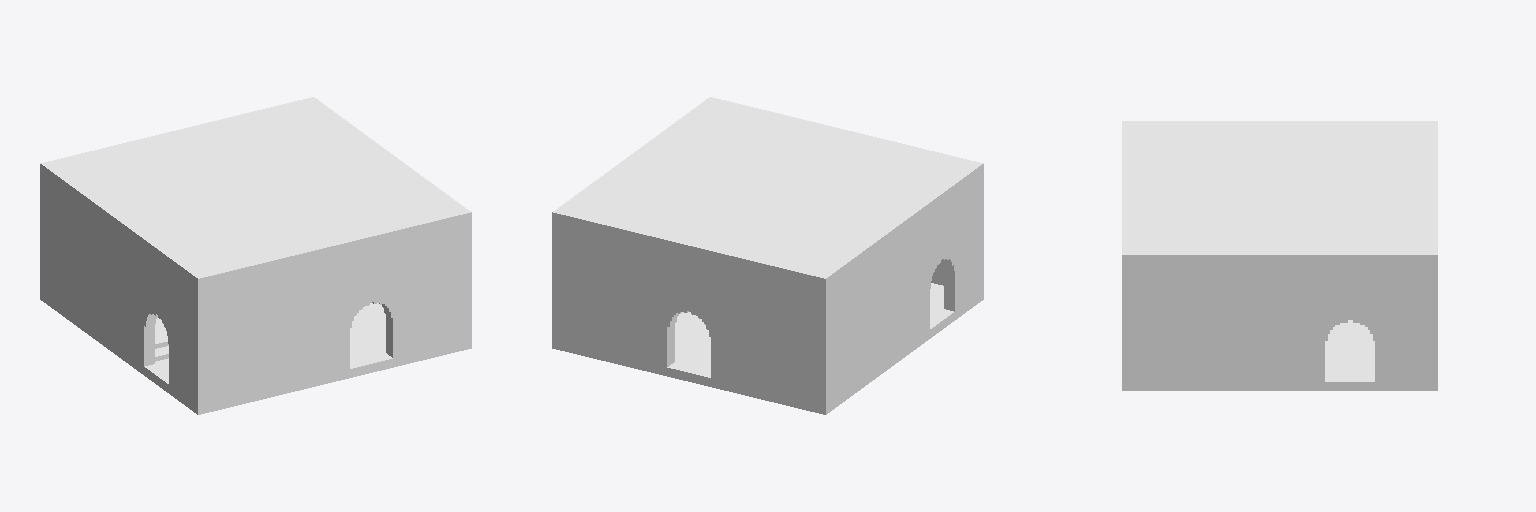
The model's file is Area4.obj.
The picture shows the model from 3 angles: view 1: azimuth 30°, elevation 25°; view 2: azimuth 150°, elevation 25°; view 3: azimuth 270°, elevation 25°; orthographic projection.
Size of the model in its own units: 126 by 60 by 126.